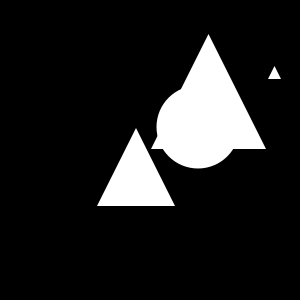rectangle: (157, 86, 240, 168)
triangle: (151, 34, 266, 149), (97, 128, 175, 206), (268, 66, 281, 79)
